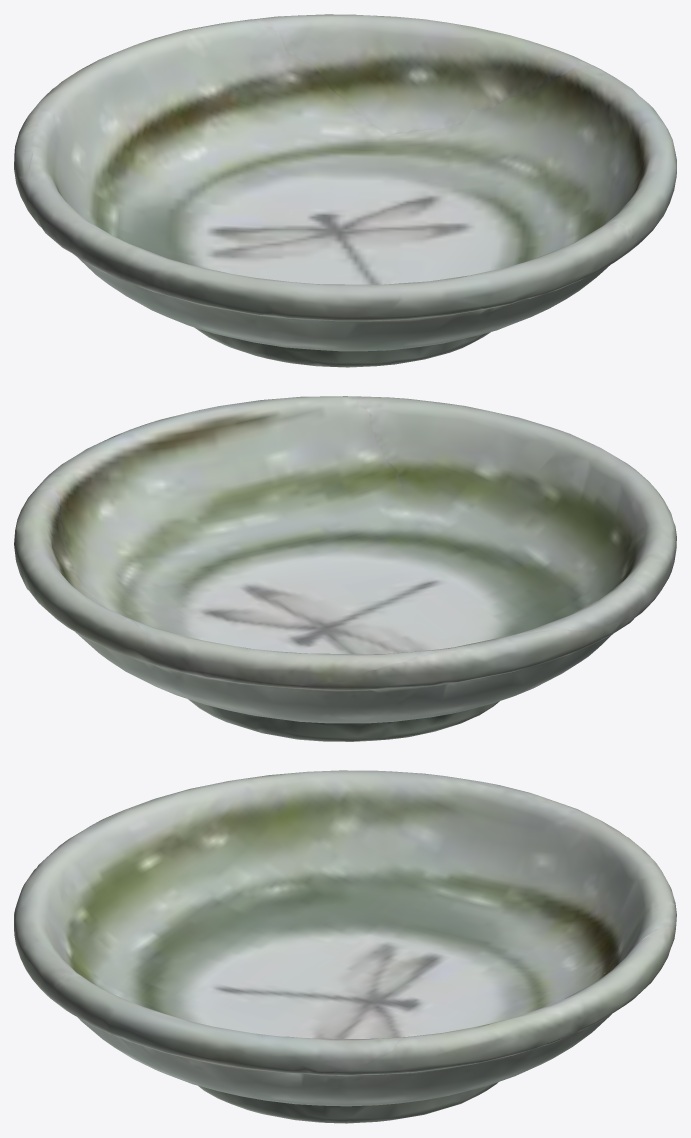
Rendered from Kotobuki_Saucer_Dragon_Fly-high.glb.
The picture shows the model from 3 angles, top to bottom: view 1: azimuth 30°, elevation 25°; view 2: azimuth 150°, elevation 25°; view 3: azimuth 270°, elevation 25°; orthographic projection.
Visible parts, largest first — view 1: Kotobuki_Saucer_Dragon_Fly; view 2: Kotobuki_Saucer_Dragon_Fly; view 3: Kotobuki_Saucer_Dragon_Fly.
Boxes of the visible parts, x1,y1,x2,y2 form: Kotobuki_Saucer_Dragon_Fly: (14,14,676,367); Kotobuki_Saucer_Dragon_Fly: (14,396,676,741); Kotobuki_Saucer_Dragon_Fly: (14,770,676,1123).
Bounding box in the file's own units: 0.0966 × 0.0242 × 0.0966.
1 material, 1 textured.
